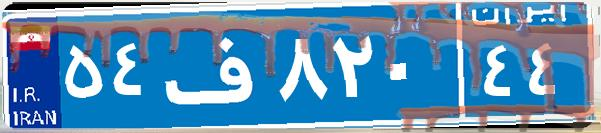0: (385, 28, 445, 110)
2: (330, 28, 385, 110)
4: (475, 38, 525, 113), (110, 28, 158, 105), (525, 38, 570, 115)
5: (57, 26, 110, 107)
8: (273, 28, 330, 110)
ف: (158, 15, 273, 115)
